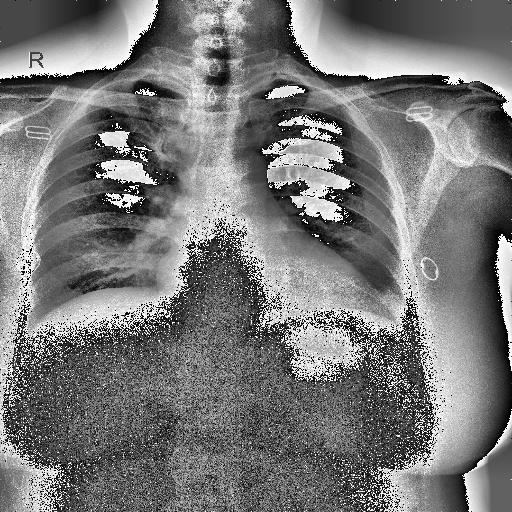3- Cardiomegaly: (154, 248, 380, 316), (155, 256, 383, 320), (152, 262, 380, 316)
